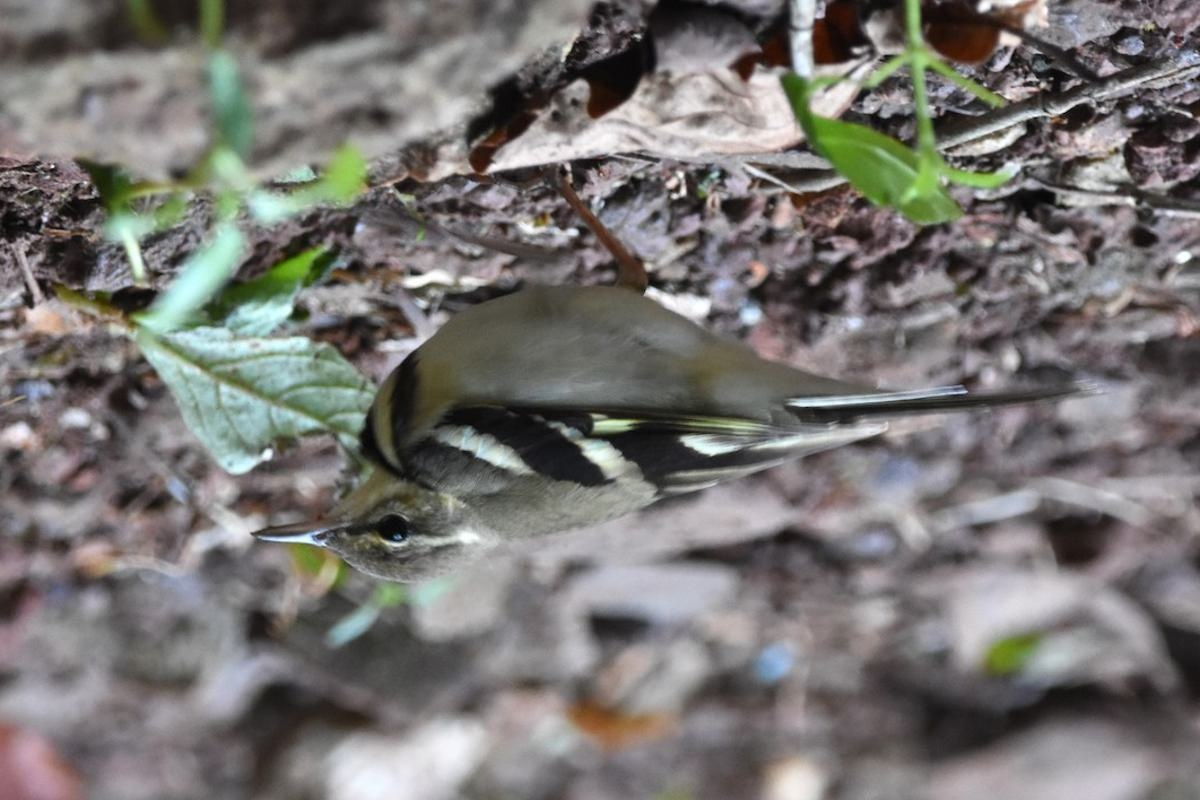wagtail: (297, 288, 893, 573)
